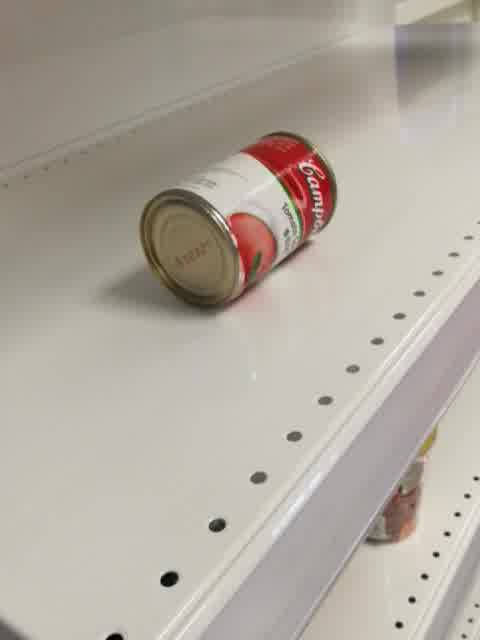tomatosoup: (137, 128, 338, 310)
